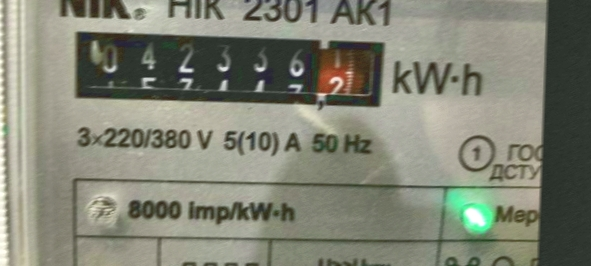0: (99, 44, 119, 77)
1: (329, 46, 342, 73)
2: (175, 42, 197, 77), (325, 77, 343, 99)
3: (212, 43, 231, 76), (251, 44, 269, 77)
4: (139, 41, 157, 74)
6: (286, 48, 307, 82)
screen: (59, 19, 398, 123)
